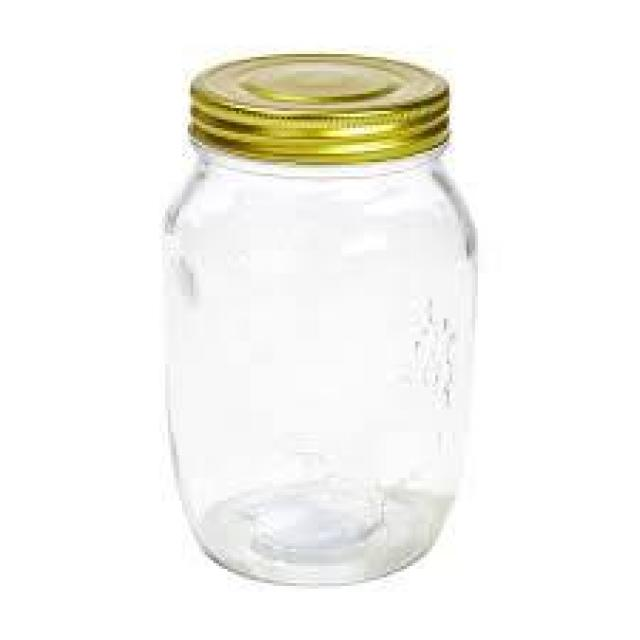non-organic waste: (158, 47, 485, 590)
